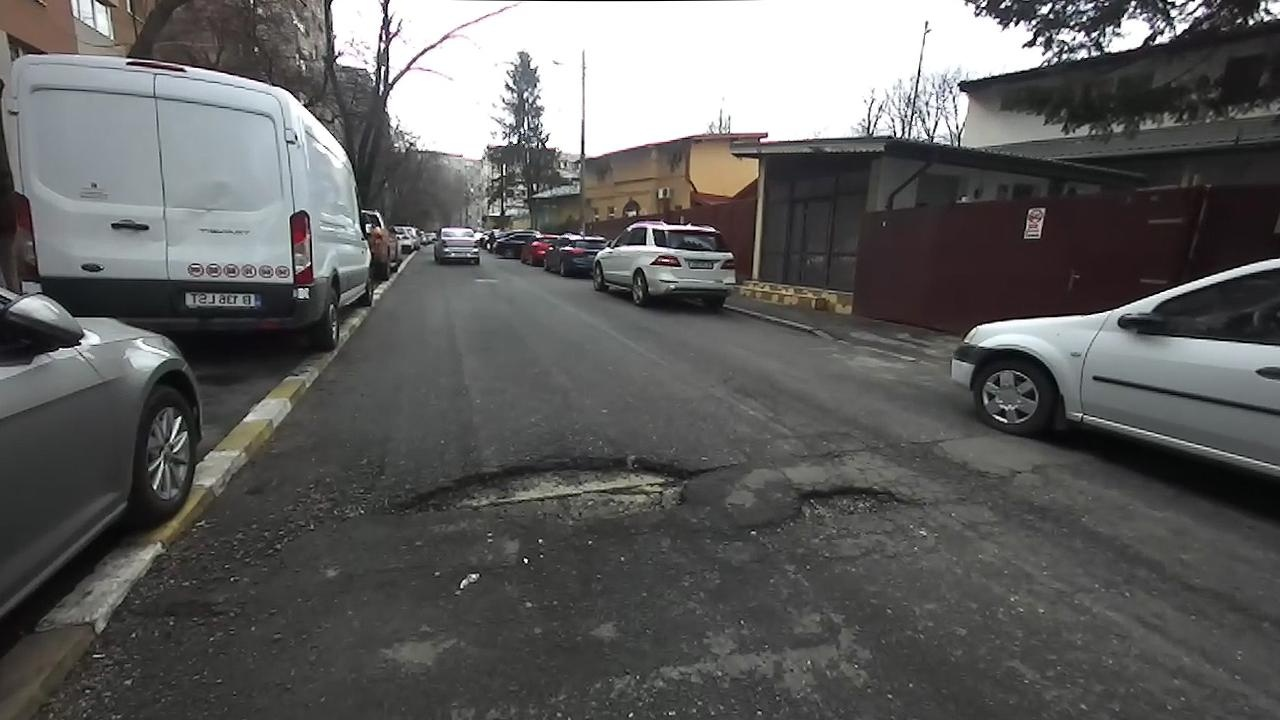pothole: (363, 446, 732, 540), (744, 480, 926, 540)
